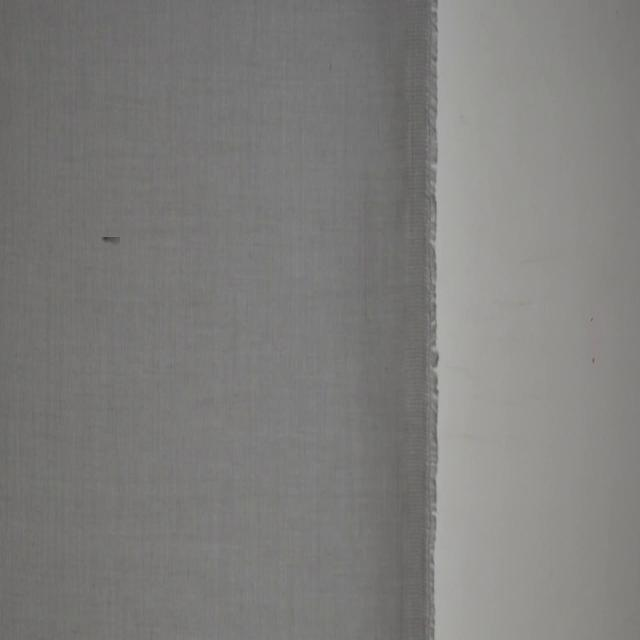dirty: (100, 232, 121, 244)
